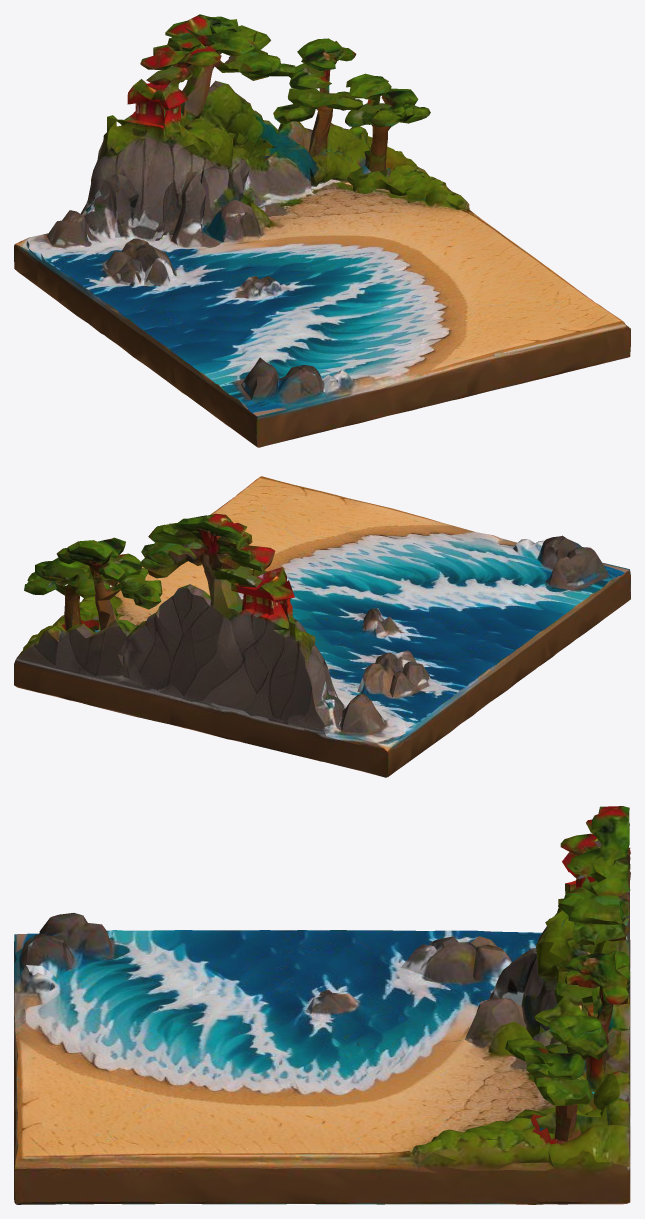
Rendered from katsurahama.glb.
The picture shows the model from 3 angles, top to bottom: view 1: azimuth 30°, elevation 25°; view 2: azimuth 150°, elevation 25°; view 3: azimuth 270°, elevation 25°; orthographic projection. The views are drawn at different scales.
Visible parts, largest first — view 1: logan-textured.obj; view 2: logan-textured.obj; view 3: logan-textured.obj.
Boxes of the visible parts, x1,y1,x2,y2 form: logan-textured.obj: [14, 14, 630, 447]; logan-textured.obj: [14, 476, 630, 777]; logan-textured.obj: [14, 806, 630, 1204].
Size of the model in its own units: 0.9201 by 0.4879 by 1.
1 material, 1 textured.
